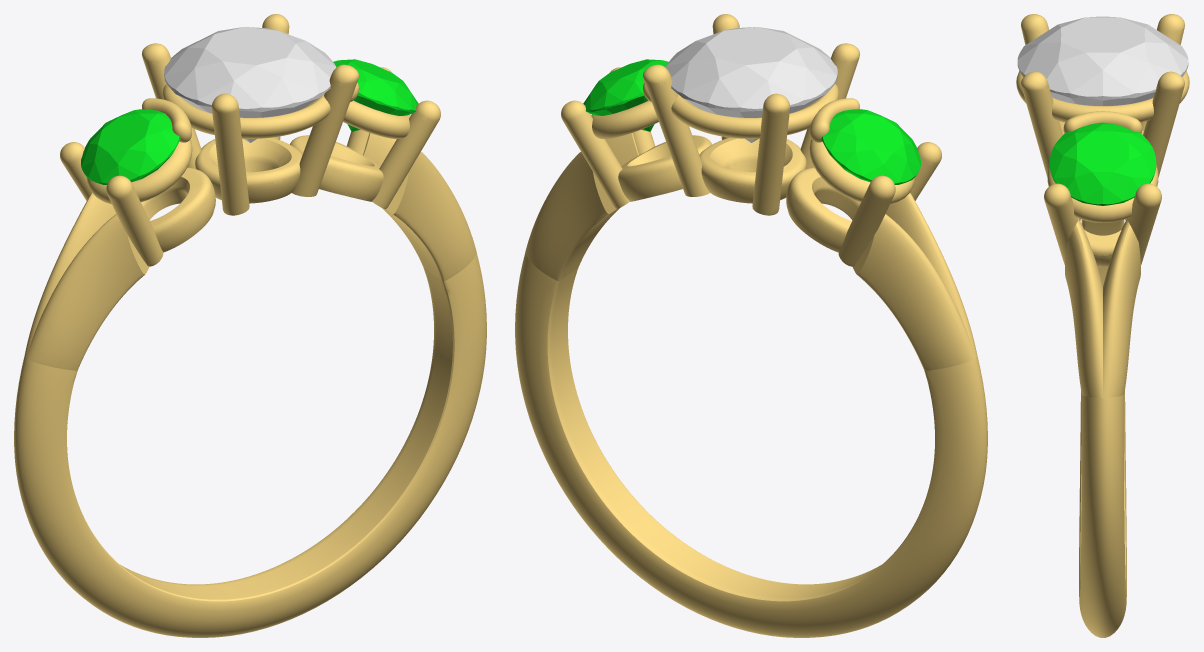
File: MitchSplitV3_blender.glb
3 renders of one model, left to right at view 1: azimuth 30°, elevation 25°; view 2: azimuth 150°, elevation 25°; view 3: azimuth 270°, elevation 25°, orthographic.
Visible parts, largest first — view 1: Mitch YG split band for 3d model, Mitch dia for 3d model, Mitch emerald for 3d model.001, Mitch emerald for 3d model; view 2: Mitch YG split band for 3d model, Mitch dia for 3d model, Mitch emerald for 3d model.001, Mitch emerald for 3d model; view 3: Mitch YG split band for 3d model, Mitch dia for 3d model, Mitch emerald for 3d model.
Part boxes in pixels (bbox=[...]): Mitch YG split band for 3d model: bbox=[14, 14, 486, 637]; Mitch dia for 3d model: bbox=[164, 27, 336, 142]; Mitch emerald for 3d model.001: bbox=[81, 109, 180, 184]; Mitch emerald for 3d model: bbox=[333, 59, 418, 131]; Mitch YG split band for 3d model: bbox=[515, 14, 987, 637]; Mitch dia for 3d model: bbox=[665, 27, 837, 142]; Mitch emerald for 3d model.001: bbox=[821, 109, 920, 184]; Mitch emerald for 3d model: bbox=[583, 59, 668, 131]; Mitch YG split band for 3d model: bbox=[1016, 14, 1189, 637]; Mitch dia for 3d model: bbox=[1017, 16, 1188, 105]; Mitch emerald for 3d model: bbox=[1049, 122, 1156, 205].
Size of the model in its own units: 20.08 by 23.88 by 6.49.
